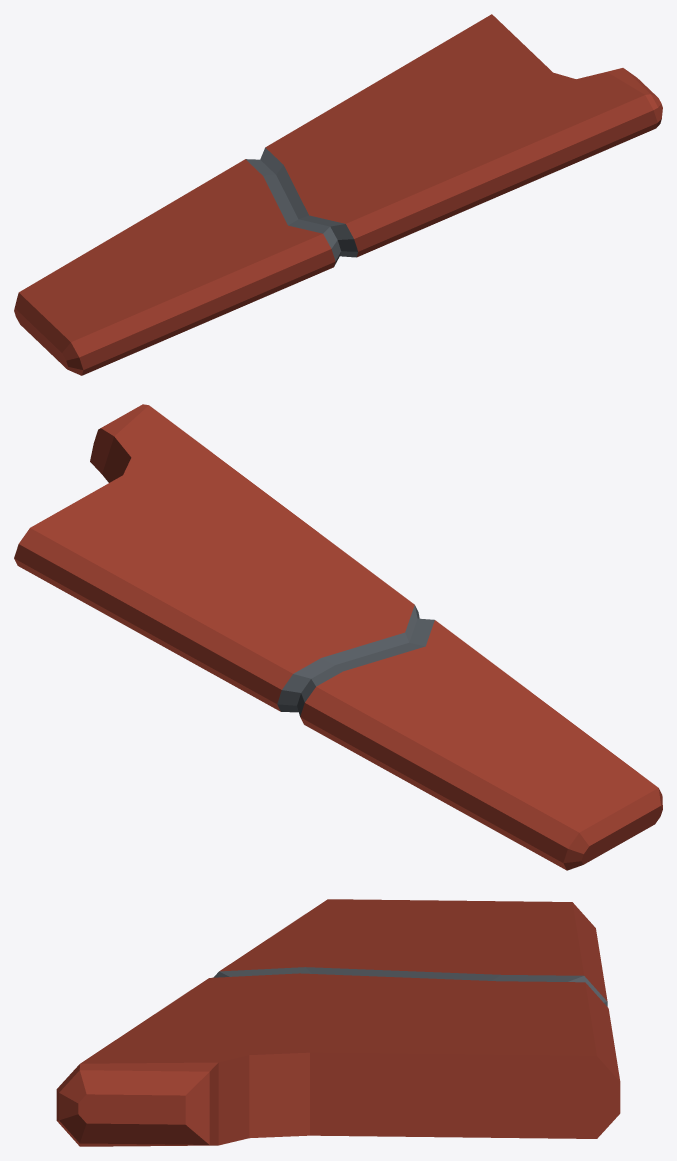
File: Fighter_07_Auxillary_Wing_Right_Red.fbx
3 renders of one model, top to bottom at view 1: azimuth 30°, elevation 25°; view 2: azimuth 150°, elevation 25°; view 3: azimuth 270°, elevation 25°, orthographic. The views are drawn at different scales.
Parts seen in each view (by area): view 1: Fighter_07_Auxillary_Wing_Right_Red; view 2: Fighter_07_Auxillary_Wing_Right_Red; view 3: Fighter_07_Auxillary_Wing_Right_Red.
Boxes of the visible parts, <box> form: Fighter_07_Auxillary_Wing_Right_Red: <box>14,14,662,375</box>; Fighter_07_Auxillary_Wing_Right_Red: <box>14,404,662,870</box>; Fighter_07_Auxillary_Wing_Right_Red: <box>56,899,620,1146</box>.
Size of the model in its own units: 412 by 149 by 186.
Materials: 1 (1 with a texture image).
